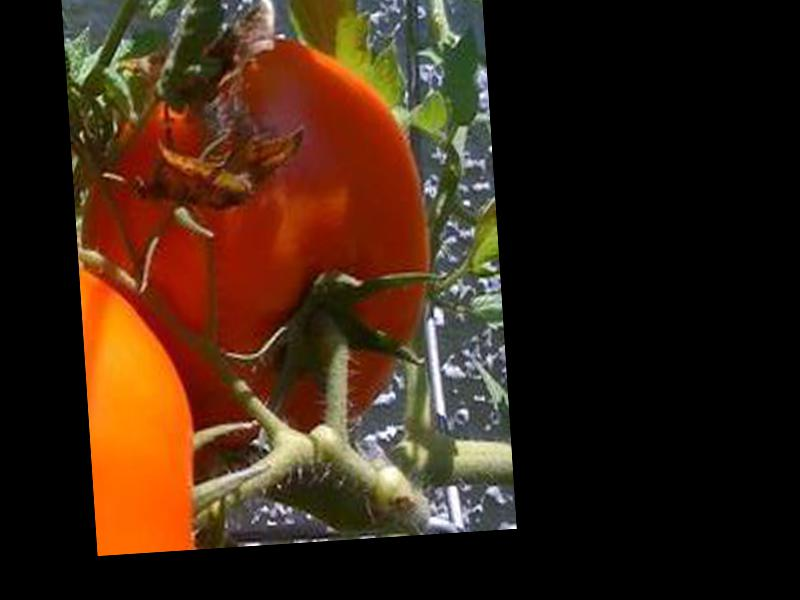Tomato: (76, 25, 442, 449)
